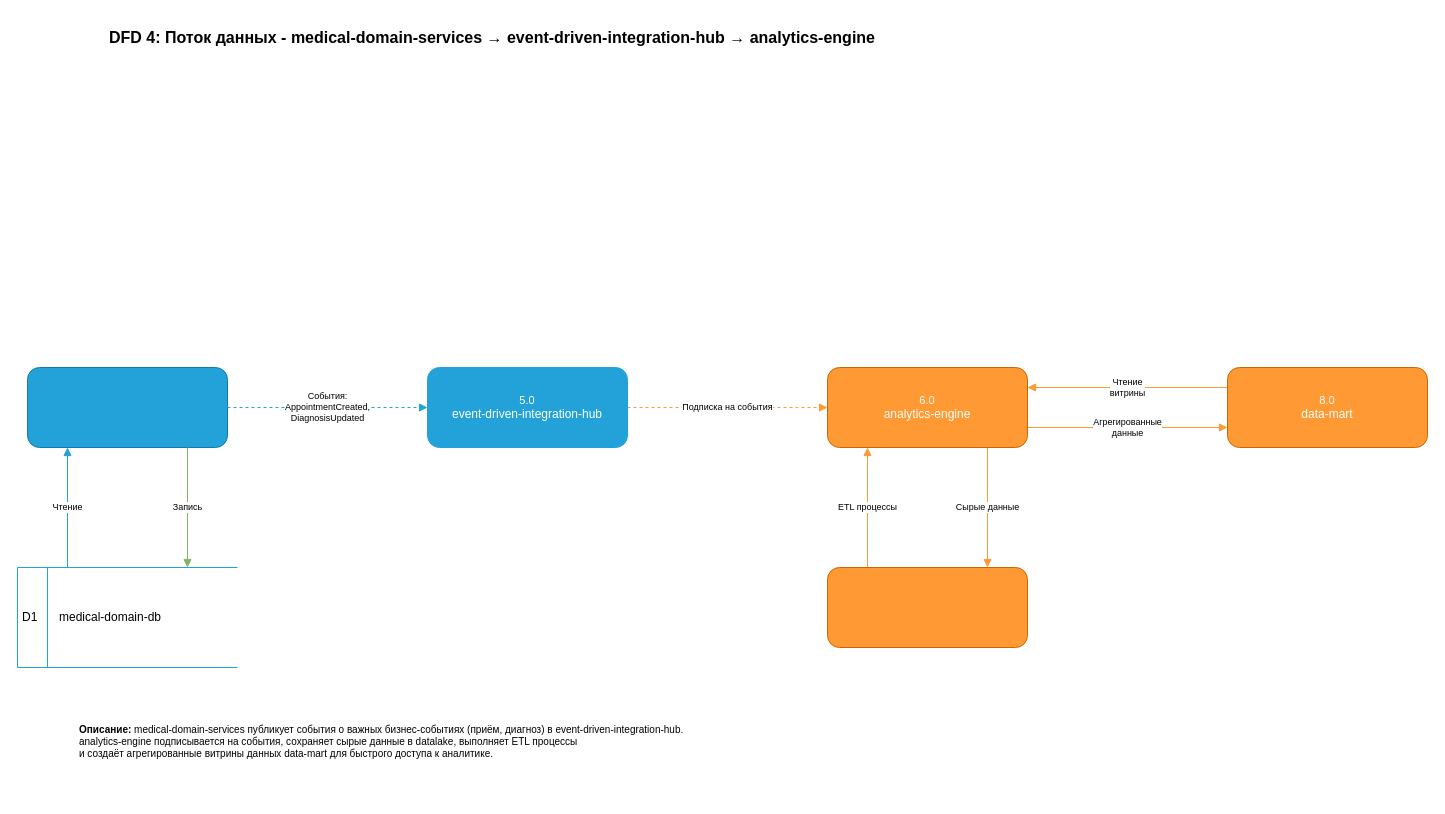
Image size: 1445x814. Some labels were removed from this diagram. Here are the shapes that lost their labels. From the top down, the box of each, then its label:
(26, 366, 228, 448): 2.0 medical-domain-services
(826, 566, 1028, 648): 7.0 data-lake
